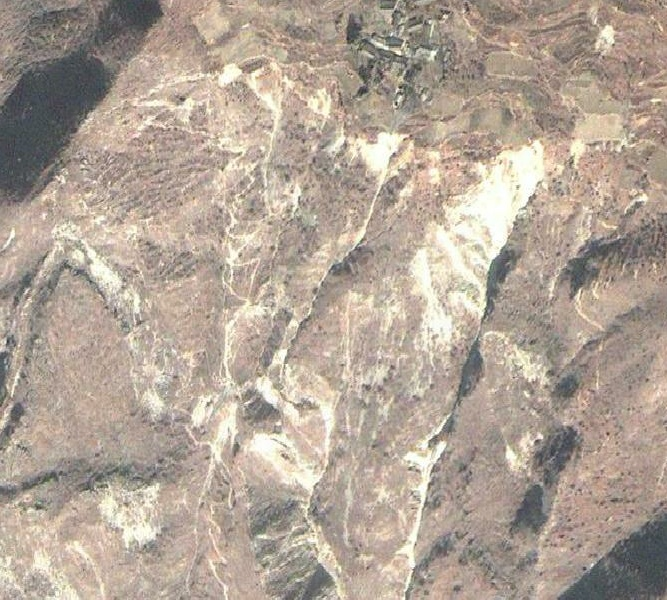slope: (403, 131, 554, 378), (243, 359, 346, 498), (395, 413, 453, 598), (214, 54, 293, 119), (352, 126, 413, 181)
